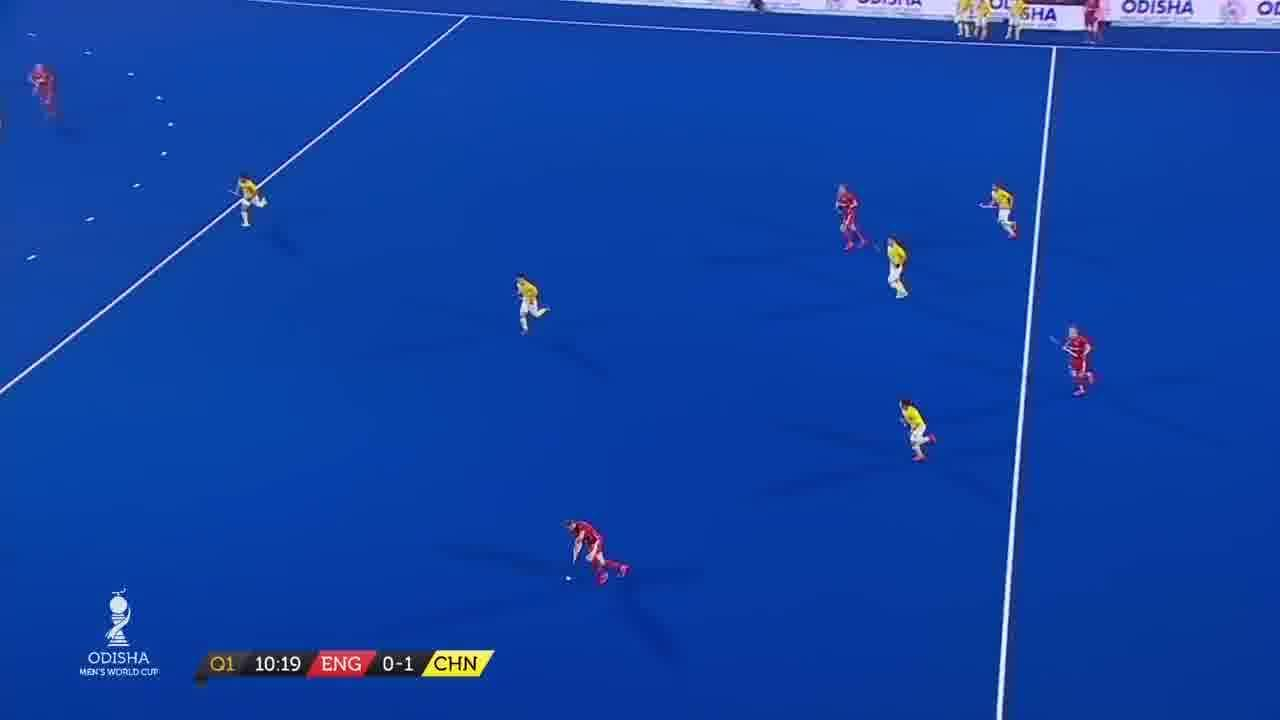ball: (564, 571, 574, 585)
